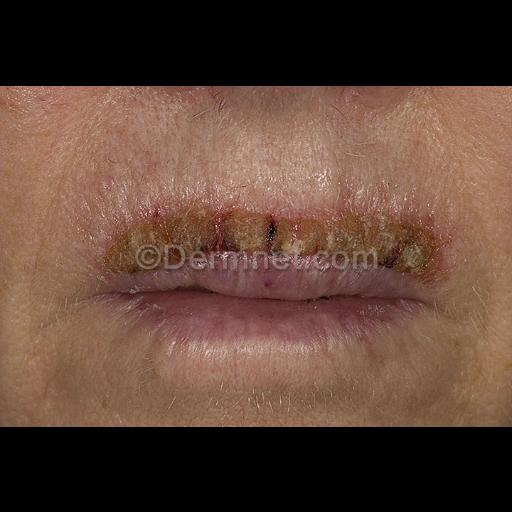Skin_Lesion: (302, 218, 444, 274), (180, 206, 248, 254), (130, 196, 174, 244), (260, 205, 294, 259), (90, 230, 126, 276), (316, 84, 370, 110)
